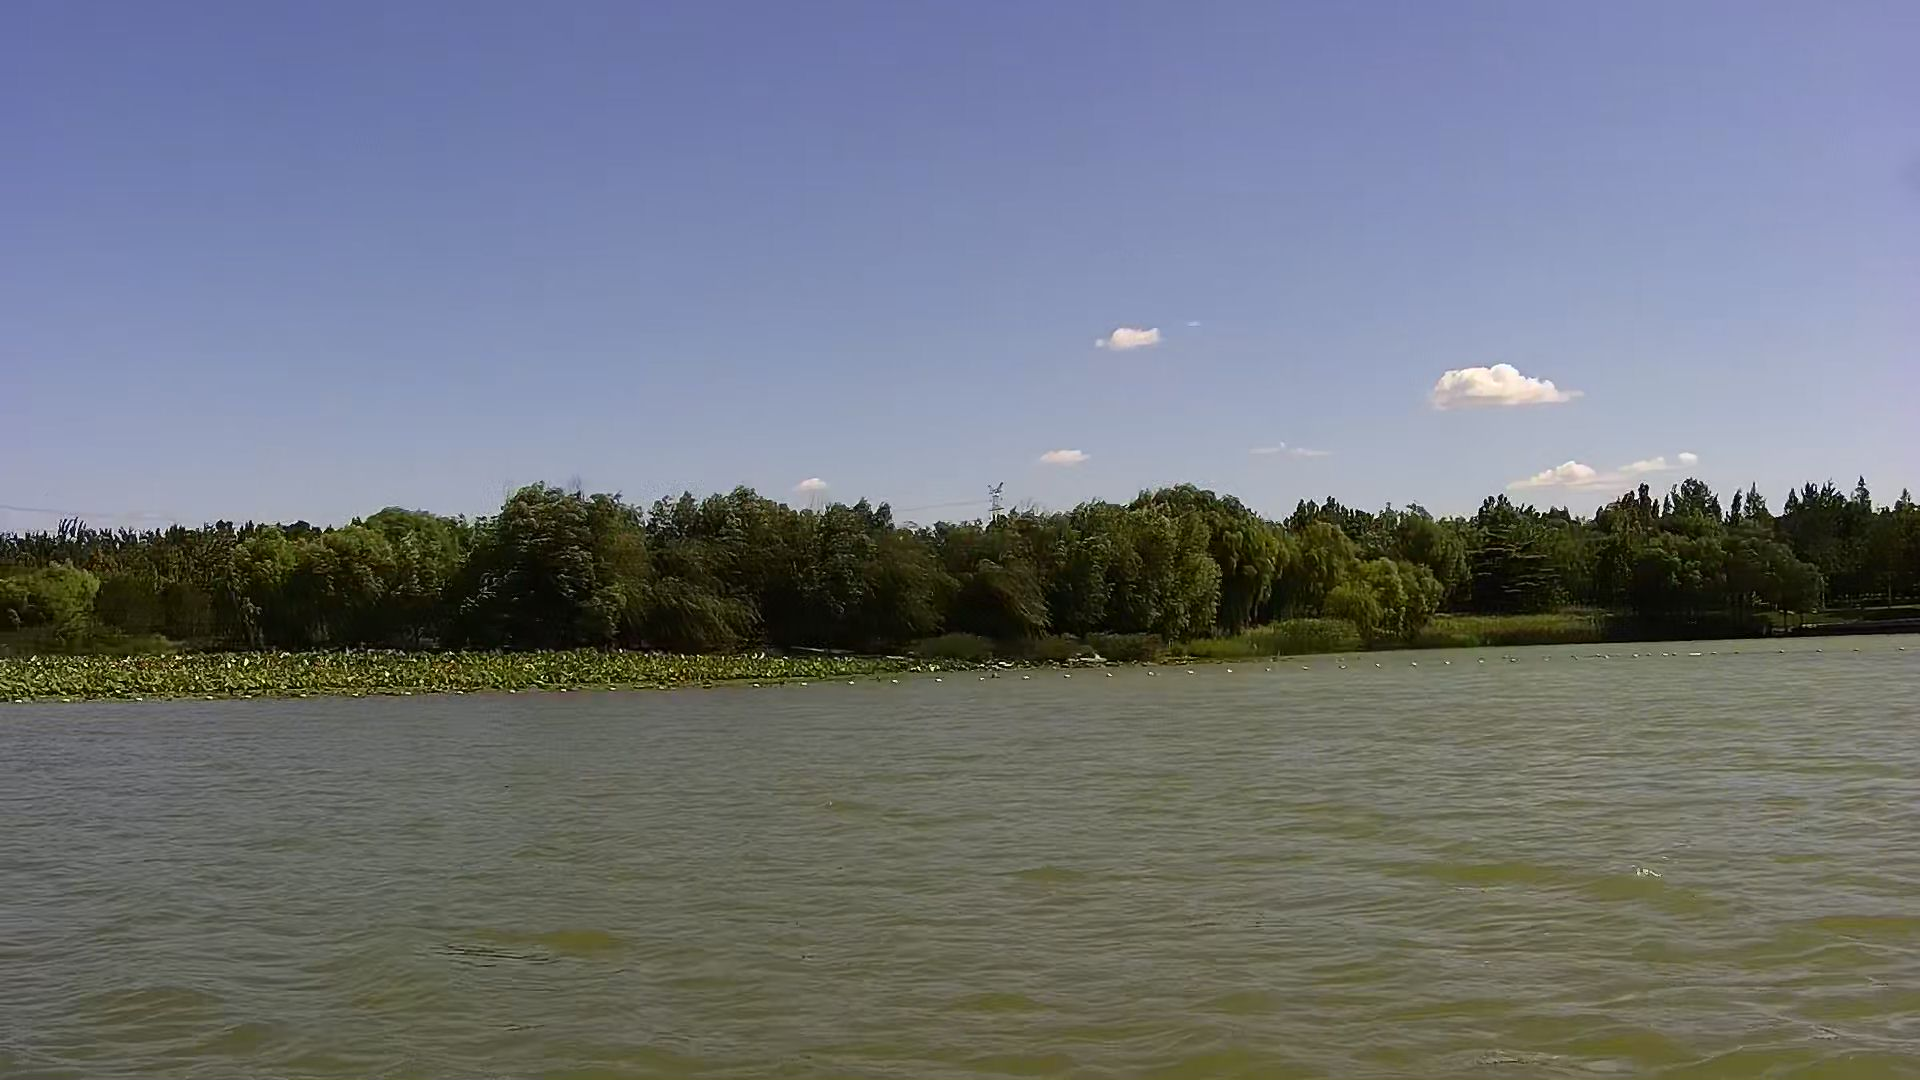grass: (4, 653, 918, 704)
